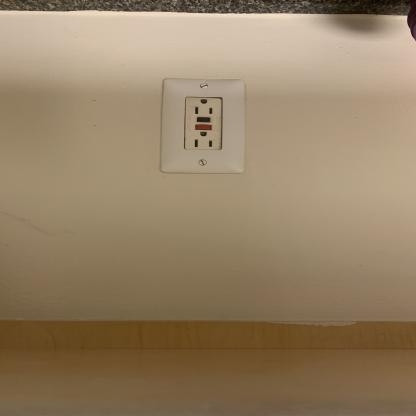OUTLET: (158, 78, 247, 173)
